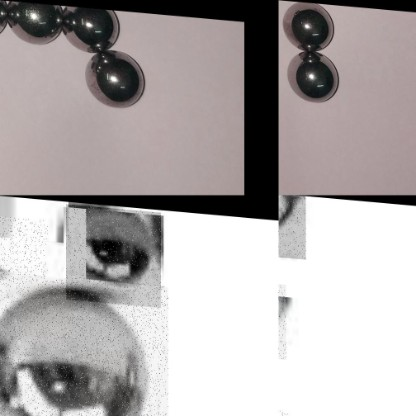ironball: (0, 269, 167, 415), (65, 201, 160, 303), (0, 210, 47, 359), (61, 0, 129, 57), (83, 45, 146, 105), (280, 50, 346, 106), (276, 0, 346, 51), (1, 0, 67, 47), (278, 195, 305, 257)
